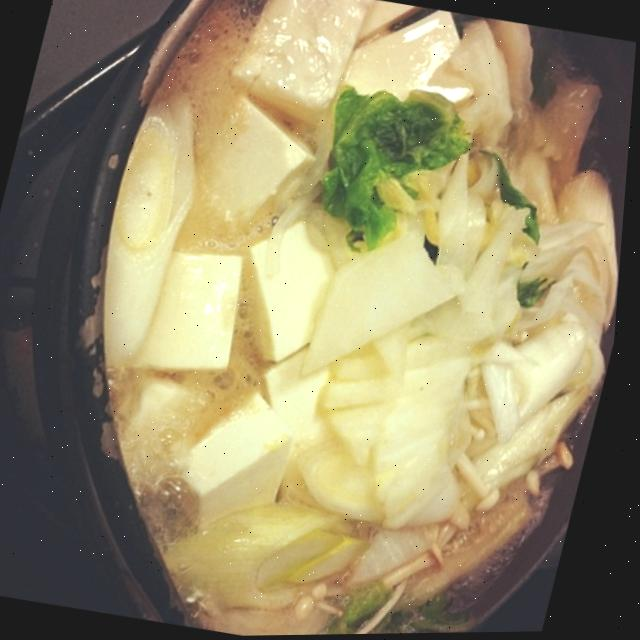豆腐料理: (1, 0, 640, 640)
